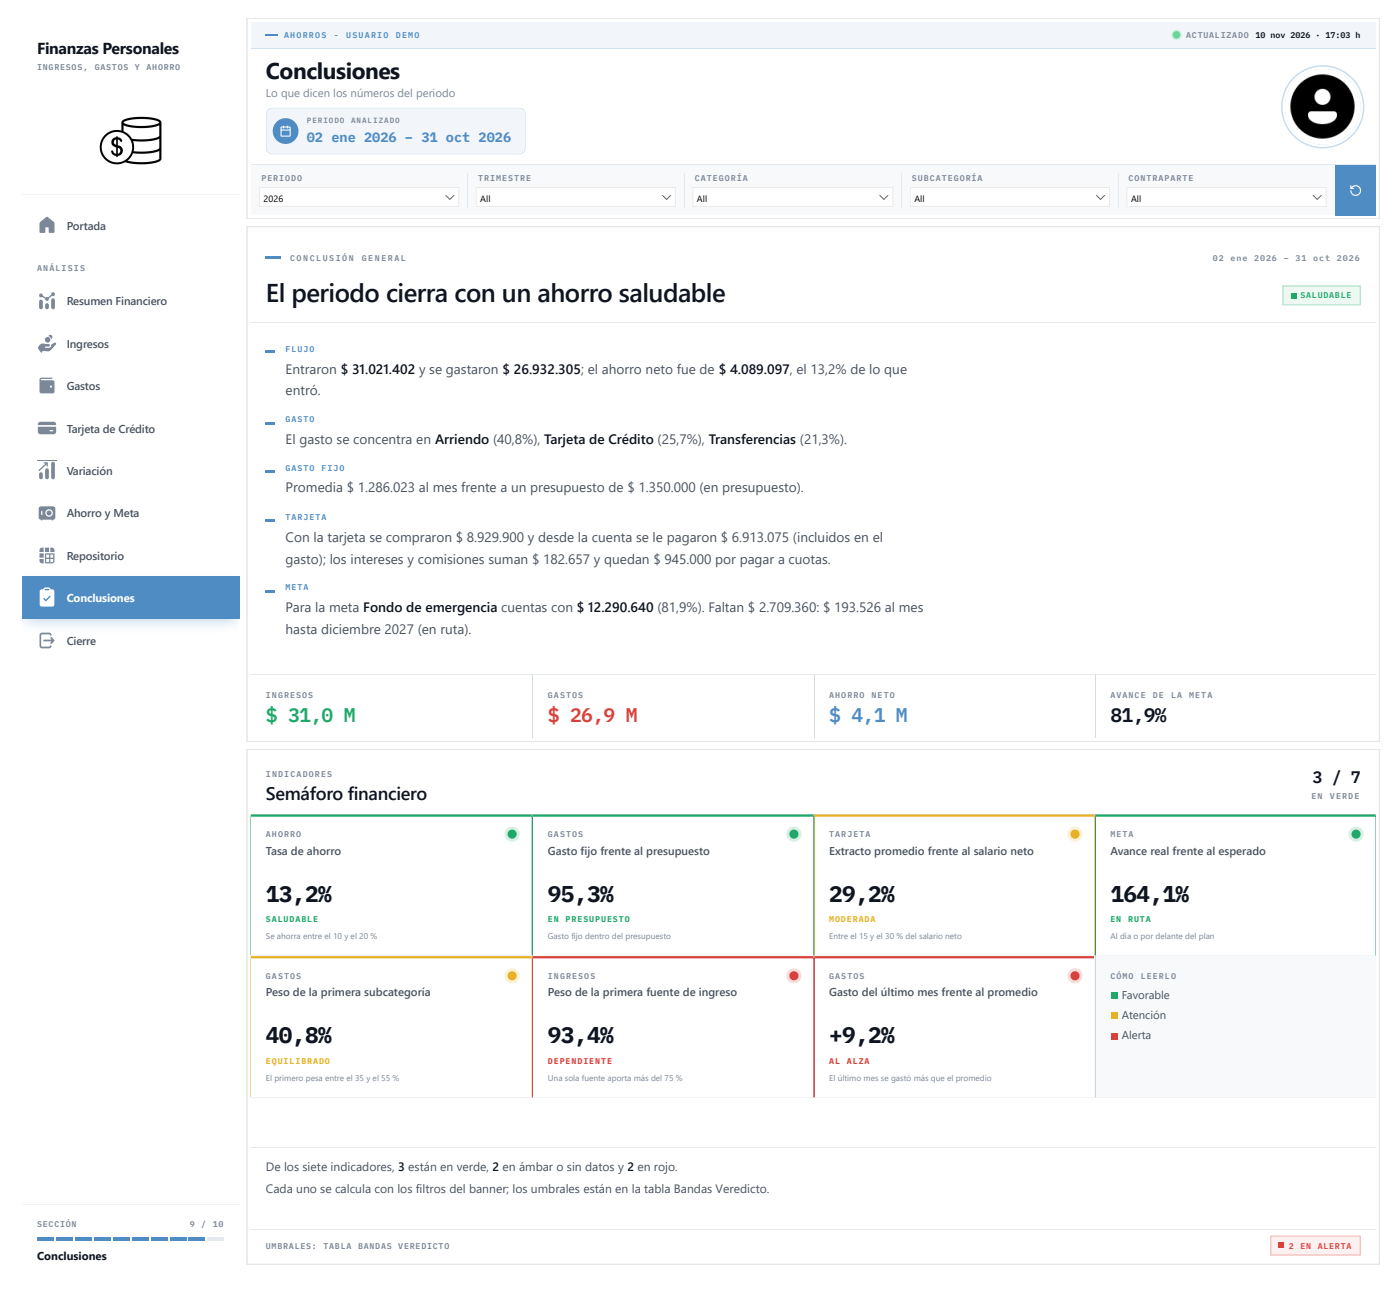

Layout of this report page (visuals, bound fields, positions):
{"tool":"powerbi","page":{"name":"Conclusiones","canvas":[1800,1665],"ordinal":8},"visuals":[{"type":"shape","title":"Contenedor","box":[302,0,1495,265],"z":1010},{"type":"shape","title":"Contenedor","box":[302,275,1495,680],"z":1020},{"type":"shape","title":"Contenedor","box":[302,965,1495,680],"z":1030},{"type":"htmlContent443BE3AD55E043BF878BED274D3A6855","fields":{"content":["Medidas.NAV Rail Vertical HTML"]},"box":[0,0,297,1665],"z":2010},{"type":"htmlContent443BE3AD55E043BF878BED274D3A6855","fields":{"content":["Medidas.NAV Banner Filtros HTML"]},"box":[302,0,1495,265],"z":2020},{"type":"htmlContent443BE3AD55E043BF878BED274D3A6855","fields":{"content":["Medidas.CON Conclusion General HTML"]},"box":[302,275,1495,680],"z":2030},{"type":"htmlContent443BE3AD55E043BF878BED274D3A6855","fields":{"content":["Medidas.CON Semaforo Financiero HTML"]},"box":[302,965,1495,680],"z":2040},{"type":"slicer","fields":{"Values":["Calendario.Año","Calendario.Mes"]},"box":[308,212.9,284.2,58.6],"z":5010},{"type":"slicer","fields":{"Values":["Calendario.Trimestre Año"]},"box":[594.2,212.9,284.2,58.6],"z":5020},{"type":"slicer","fields":{"Values":["Categorias.Categoría"]},"box":[880.4,212.9,284.2,58.6],"z":5030},{"type":"slicer","fields":{"Values":["Categorias.Subcategoría"]},"box":[1166.6,212.9,284.2,58.6],"z":5040},{"type":"slicer","fields":{"Values":["Movimientos.Contraparte"]},"box":[1452.8,212.9,284.2,58.6],"z":5050},{"type":"shape","box":[0,0,297,245],"z":6010},{"type":"shape","box":[0,301,297,44],"z":6020},{"type":"shape","box":[0,849,297,816],"z":6030},{"type":"shape","box":[285,0,12,1665],"z":6040},{"type":"shape","box":[302,0,1495,193],"z":6050},{"type":"actionButton","box":[1738,193,54,67],"z":7010},{"type":"actionButton","box":[0,245,285,56],"z":7020},{"type":"actionButton","box":[0,345,285,56],"z":7030},{"type":"actionButton","box":[0,401,285,56],"z":7040},{"type":"actionButton","box":[0,457,285,56],"z":7050},{"type":"actionButton","box":[0,513,285,56],"z":7060},{"type":"actionButton","box":[0,569,285,56],"z":7070},{"type":"actionButton","box":[0,625,285,56],"z":7070},{"type":"actionButton","box":[0,681,285,56],"z":7080},{"type":"actionButton","box":[0,737,285,56],"z":7090},{"type":"actionButton","box":[0,793,285,56],"z":7100}]}

Visuals, with their boxes on the page's 1800x1665 design canvas (x1, y1, x2, y2). These are canvas units, not pixel positions in the 1400x1298 screenshot, which may show the page scaled, cropped or inside an application window:
"Contenedor" shape: <bbox>302, 0, 1797, 265</bbox>
"Contenedor" shape: <bbox>302, 275, 1797, 955</bbox>
"Contenedor" shape: <bbox>302, 965, 1797, 1645</bbox>
htmlContent443BE3AD55E043BF878BED274D3A6855 - Medidas.NAV Rail Vertical HTML: <bbox>0, 0, 297, 1665</bbox>
htmlContent443BE3AD55E043BF878BED274D3A6855 - Medidas.NAV Banner Filtros HTML: <bbox>302, 0, 1797, 265</bbox>
htmlContent443BE3AD55E043BF878BED274D3A6855 - Medidas.CON Conclusion General HTML: <bbox>302, 275, 1797, 955</bbox>
htmlContent443BE3AD55E043BF878BED274D3A6855 - Medidas.CON Semaforo Financiero HTML: <bbox>302, 965, 1797, 1645</bbox>
slicer - Calendario.Año x Calendario.Mes: <bbox>308, 213, 592, 272</bbox>
slicer - Calendario.Trimestre Año: <bbox>594, 213, 878, 272</bbox>
slicer - Categorias.Categoría: <bbox>880, 213, 1165, 272</bbox>
slicer - Categorias.Subcategoría: <bbox>1167, 213, 1451, 272</bbox>
slicer - Movimientos.Contraparte: <bbox>1453, 213, 1737, 272</bbox>
shape: <bbox>0, 0, 297, 245</bbox>
shape: <bbox>0, 301, 297, 345</bbox>
shape: <bbox>0, 849, 297, 1665</bbox>
shape: <bbox>285, 0, 297, 1665</bbox>
shape: <bbox>302, 0, 1797, 193</bbox>
actionButton: <bbox>1738, 193, 1792, 260</bbox>
actionButton: <bbox>0, 245, 285, 301</bbox>
actionButton: <bbox>0, 345, 285, 401</bbox>
actionButton: <bbox>0, 401, 285, 457</bbox>
actionButton: <bbox>0, 457, 285, 513</bbox>
actionButton: <bbox>0, 513, 285, 569</bbox>
actionButton: <bbox>0, 569, 285, 625</bbox>
actionButton: <bbox>0, 625, 285, 681</bbox>
actionButton: <bbox>0, 681, 285, 737</bbox>
actionButton: <bbox>0, 737, 285, 793</bbox>
actionButton: <bbox>0, 793, 285, 849</bbox>
